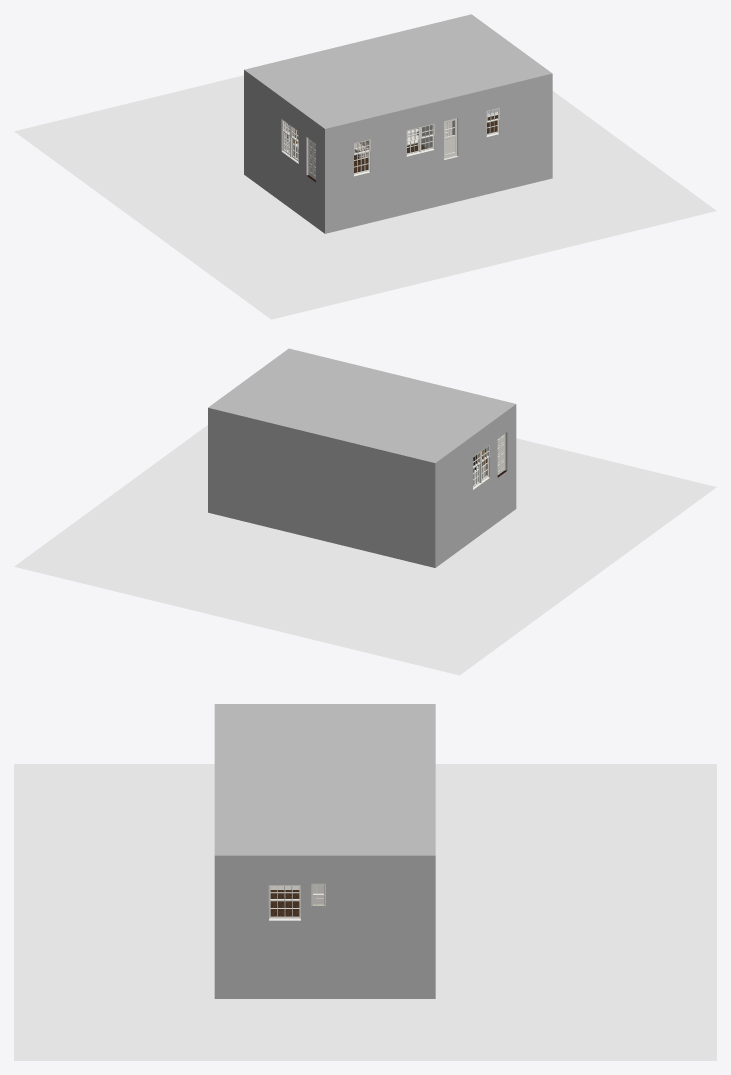
File: House.fbx
3 renders of one model, top to bottom at view 1: azimuth 30°, elevation 25°; view 2: azimuth 150°, elevation 25°; view 3: azimuth 270°, elevation 25°, orthographic. The views are drawn at different scales.
Parts seen in each view (by area): view 1: House_Basement, Cube_2, House_Kitchen; view 2: House_Basement, Cube_2; view 3: House_Basement, Cube_2, House_Bedroom.
Part boxes in pixels (box(x1,y1,x2,y2)): House_Basement: box(14, 75, 716, 319); Cube_2: box(244, 14, 552, 233); House_Kitchen: box(406, 118, 458, 159); House_Basement: box(14, 425, 716, 675); Cube_2: box(208, 348, 516, 567); House_Basement: box(14, 764, 716, 1060); Cube_2: box(214, 704, 435, 998); House_Bedroom: box(269, 890, 300, 920).
Size of what is drawn, in the model's own units: 24 by 24 by 5.5.
